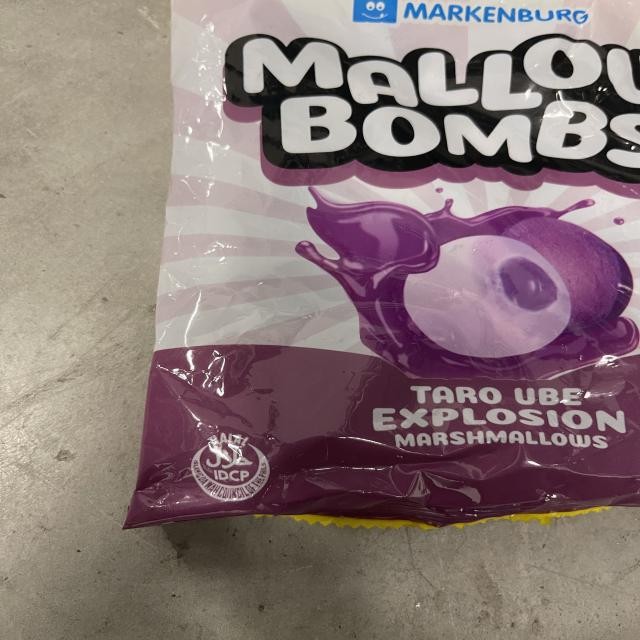object_name: (163, 8, 633, 521)
